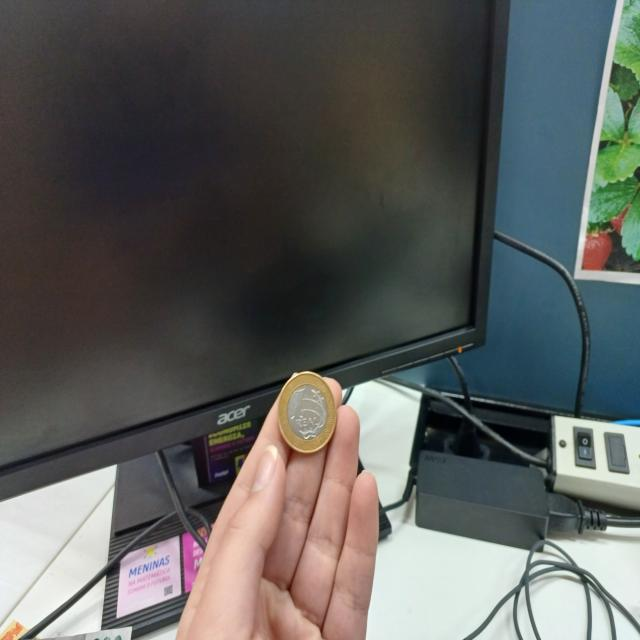1 real: (276, 366, 338, 456)
